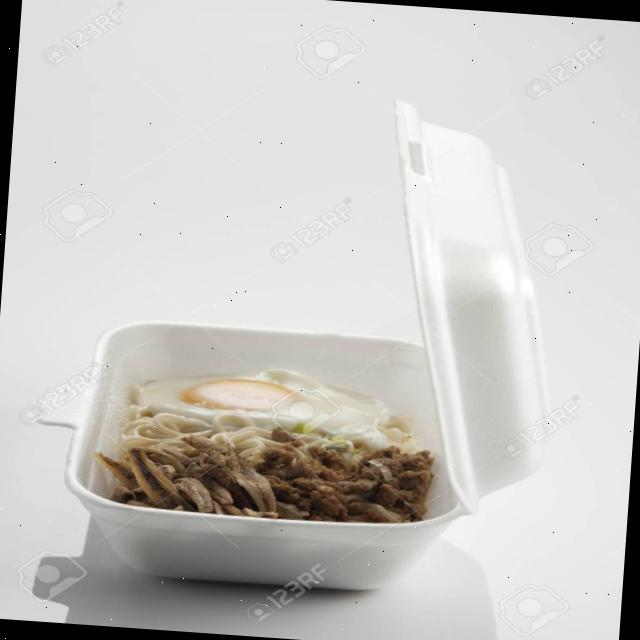styrofoam: (16, 73, 578, 606)
